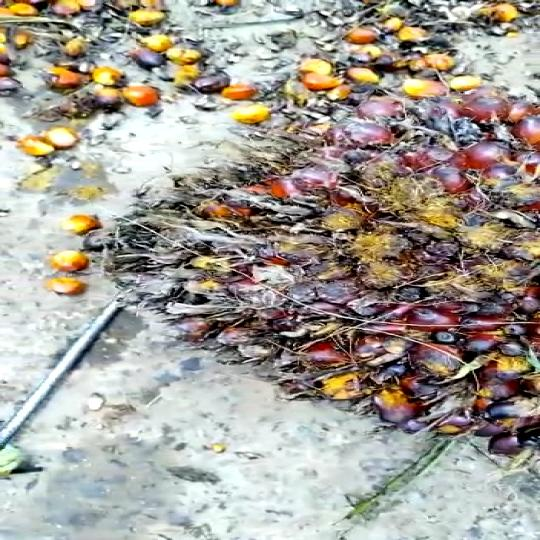masak: (74, 94, 540, 448)
